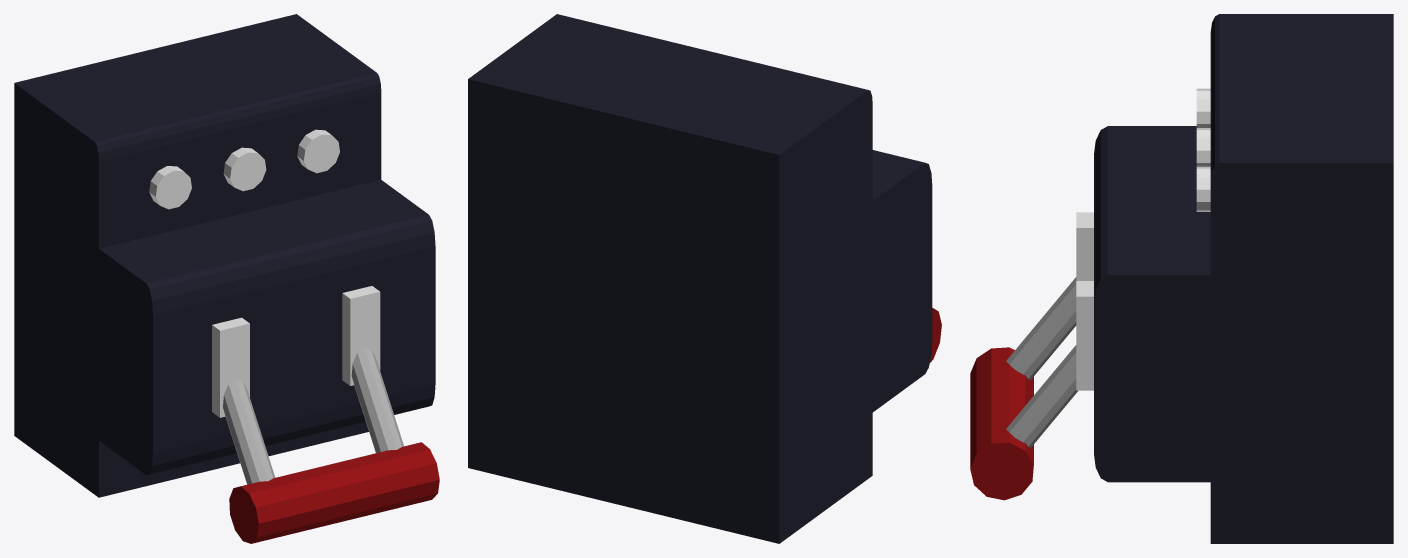
The model's file is Disjuntor.fbx.
3 views of the same model, side by side, from view 1: azimuth 30°, elevation 25°; view 2: azimuth 150°, elevation 25°; view 3: azimuth 270°, elevation 25° (orthographic). The views are drawn at different scales.
Parts seen in each view (by area): view 1: Cube.005, Cylinder.016, Cube.001, Cylinder.015, Cylinder.014, Cylinder.019, Cylinder.018, Cylinder.017; view 2: Cube.005; view 3: Cube.005, Cylinder.016, Cube.001, Cylinder.014, Cylinder.015, Cylinder.018, Cylinder.017, Cylinder.019.
Boxes of the visible parts, bbox=[...] form: Cube.005: bbox=[14, 14, 435, 497]; Cylinder.016: bbox=[229, 442, 439, 543]; Cube.001: bbox=[212, 286, 380, 417]; Cylinder.015: bbox=[223, 379, 275, 484]; Cylinder.014: bbox=[351, 347, 403, 453]; Cylinder.019: bbox=[223, 147, 266, 191]; Cylinder.018: bbox=[297, 129, 339, 173]; Cylinder.017: bbox=[149, 166, 191, 209]; Cube.005: bbox=[468, 14, 932, 543]; Cube.005: bbox=[1094, 14, 1393, 543]; Cylinder.016: bbox=[970, 347, 1033, 500]; Cube.001: bbox=[1076, 212, 1093, 390]; Cylinder.014: bbox=[1006, 345, 1077, 447]; Cylinder.015: bbox=[1006, 277, 1076, 379]; Cylinder.018: bbox=[1196, 166, 1210, 211]; Cylinder.017: bbox=[1196, 88, 1210, 127]; Cylinder.019: bbox=[1196, 128, 1210, 166].
Bounding box in the file's own units: 43.09 × 51.43 × 51.8.
